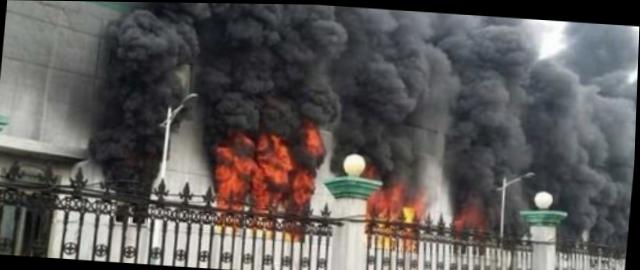fire: (212, 142, 250, 200), (255, 135, 290, 180), (251, 159, 280, 204), (367, 186, 401, 213), (289, 163, 313, 198), (302, 123, 324, 153), (402, 201, 421, 216)
